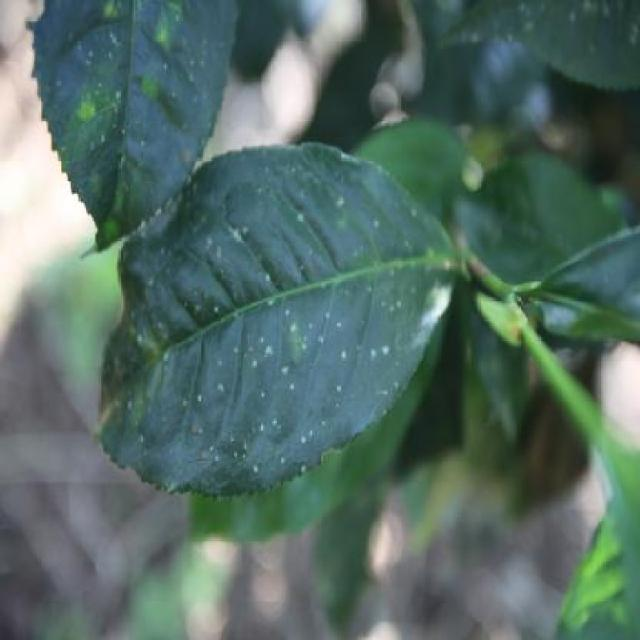White spot of tea: (97, 152, 445, 490)
